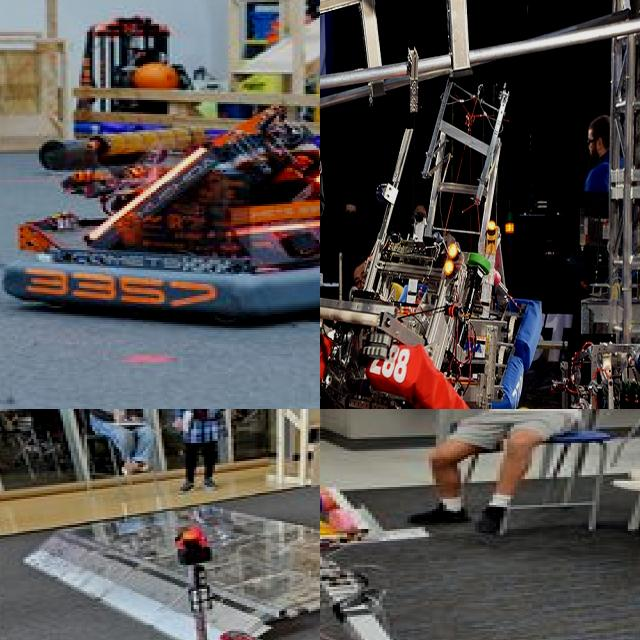FRC-Robots: (0, 0, 320, 341), (320, 52, 560, 409), (320, 436, 640, 640), (35, 476, 320, 640), (595, 350, 640, 409)
